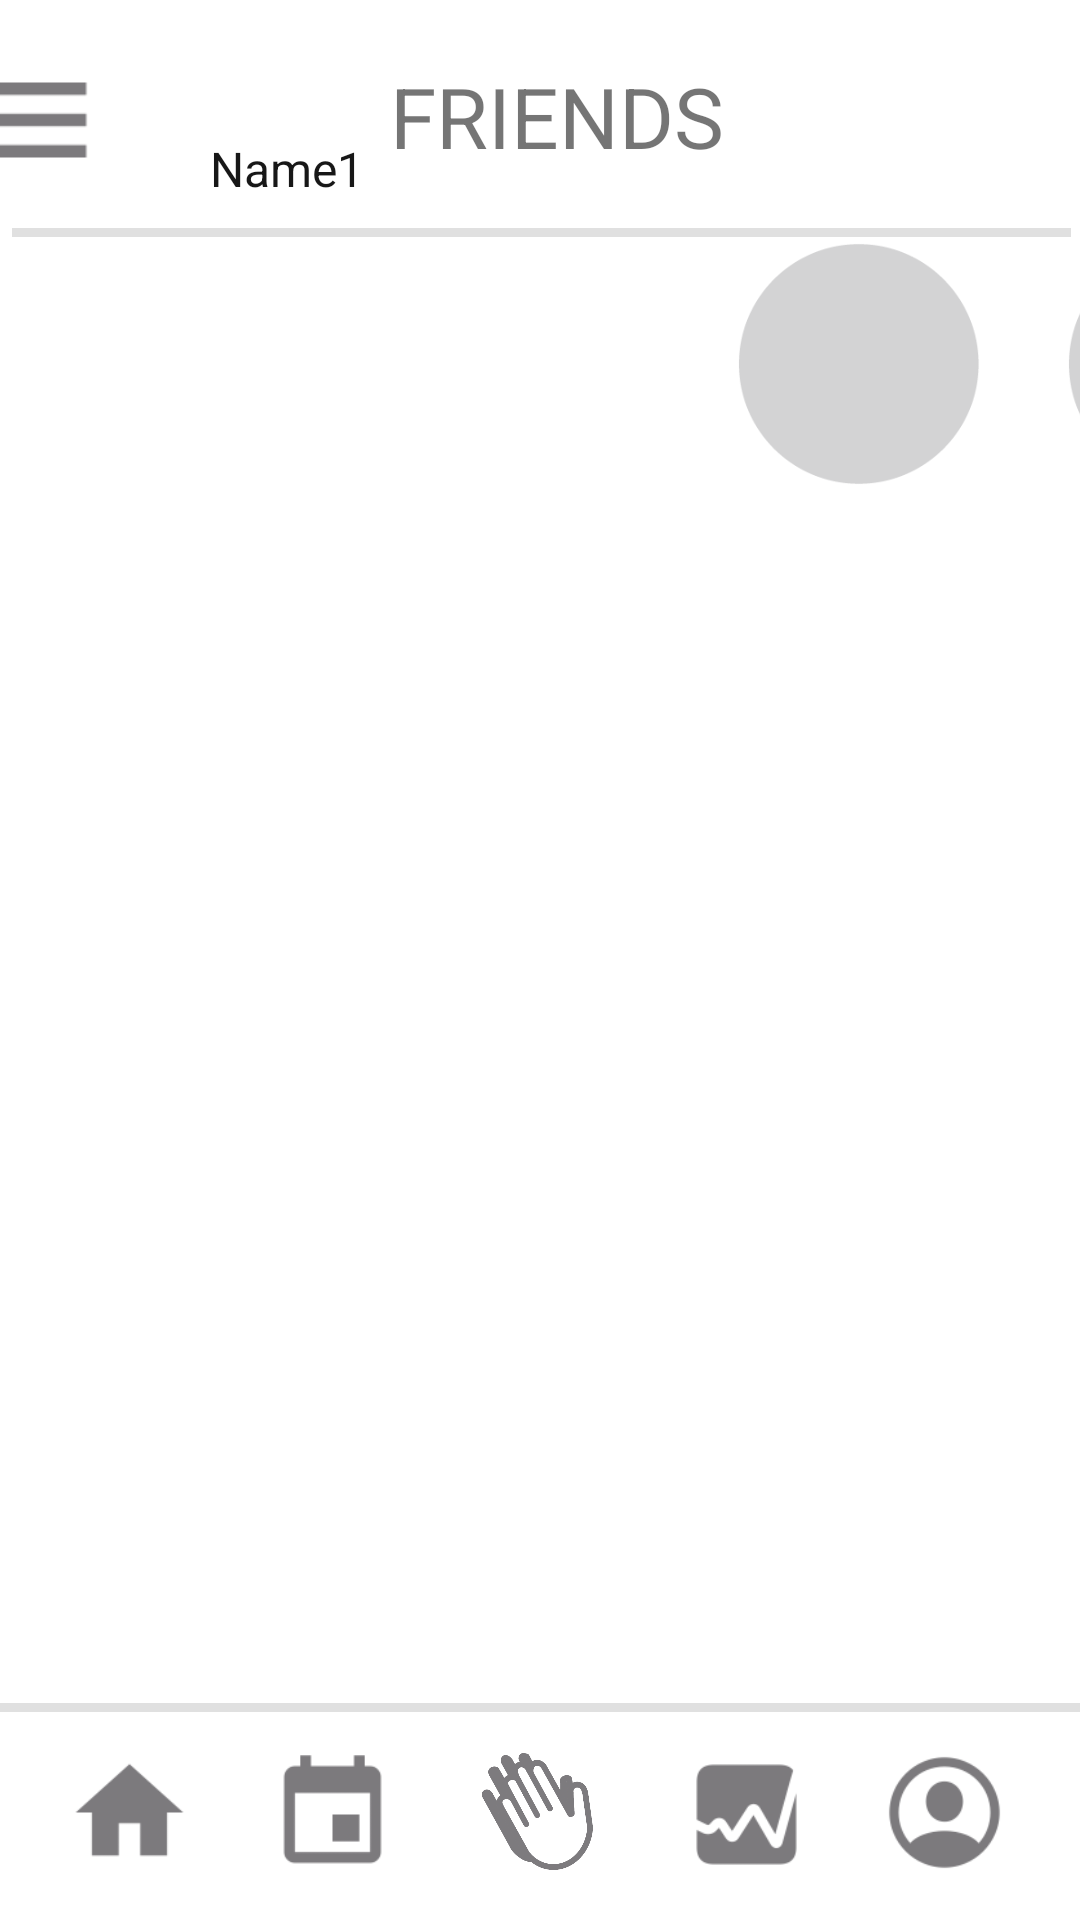

Icon click points for this 1080 × 1920 phone screenshot, format [x,y]:
calendarbutton: [332,1809]
homebutton: [129,1810]
mypagebutton: [944,1812]
praybutton: [537,1811]
summarybutton: [746,1814]
